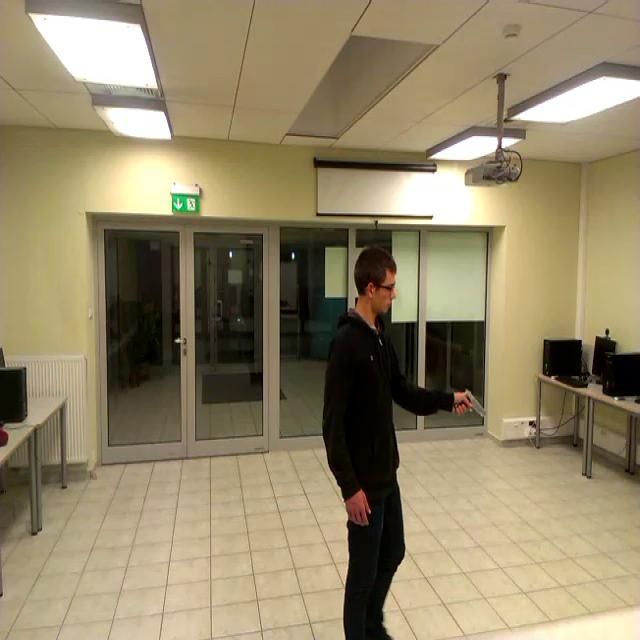Gun: (457, 388, 488, 417)
